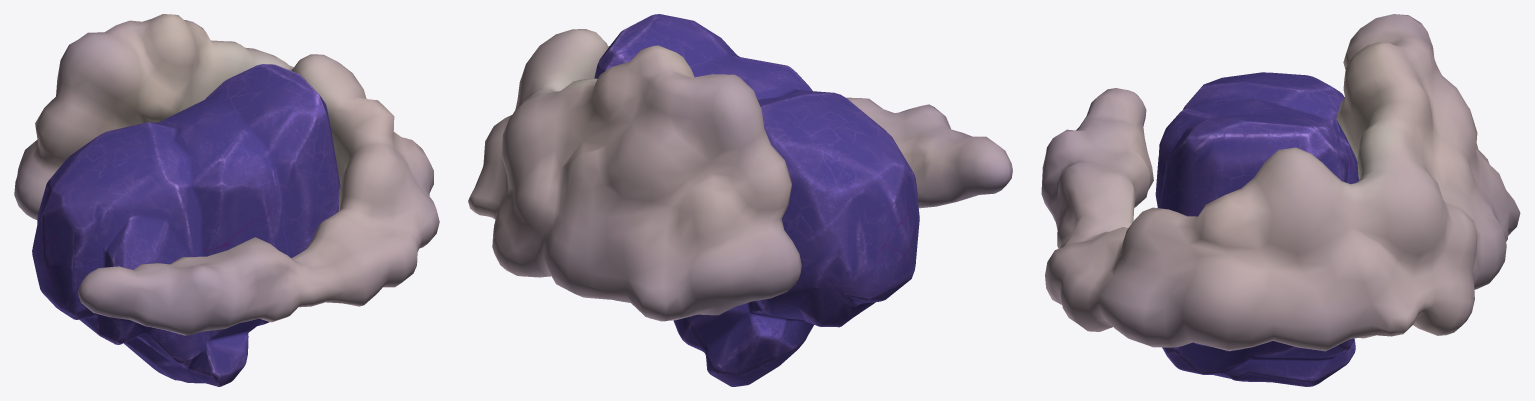
Rendered from Roca Completa.glb.
The picture shows the model from 3 angles, left to right: view 1: azimuth 30°, elevation 25°; view 2: azimuth 150°, elevation 25°; view 3: azimuth 270°, elevation 25°; orthographic projection. The views are drawn at different scales.
Visible parts, largest first — view 1: Nubes_low, Roca_low; view 2: Nubes_low, Roca_low; view 3: Nubes_low, Roca_low.
Boxes of the visible parts, bbox=[...] form: Nubes_low: bbox=[14, 14, 439, 335]; Roca_low: bbox=[32, 64, 340, 386]; Nubes_low: bbox=[468, 29, 1012, 321]; Roca_low: bbox=[594, 14, 919, 386]; Nubes_low: bbox=[1041, 14, 1520, 351]; Roca_low: bbox=[1155, 72, 1359, 386].
Bounding box in the file's own units: 1.09 × 0.8351 × 0.9984.
2 materials, 2 textured.
